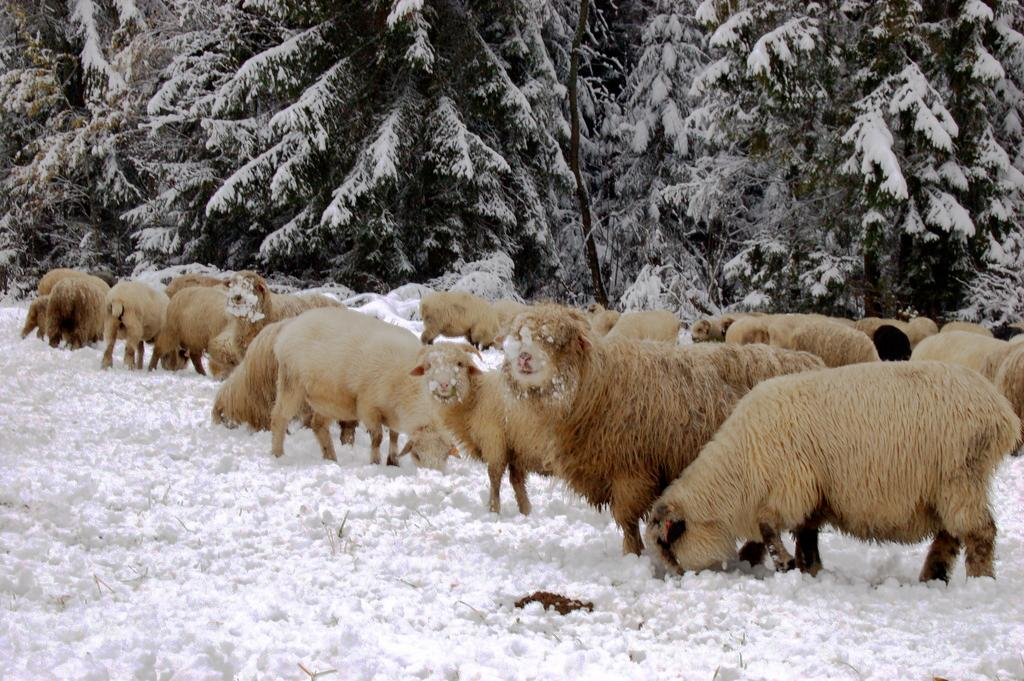Sheep: (492, 307, 836, 562), (638, 362, 1024, 586), (403, 327, 614, 521), (258, 301, 458, 476), (212, 310, 348, 441), (215, 271, 352, 363), (150, 290, 259, 379), (910, 324, 1010, 394), (769, 312, 885, 372), (104, 278, 176, 372), (976, 327, 1024, 460), (416, 286, 502, 358), (41, 275, 113, 354), (601, 309, 683, 352), (689, 317, 750, 347)
